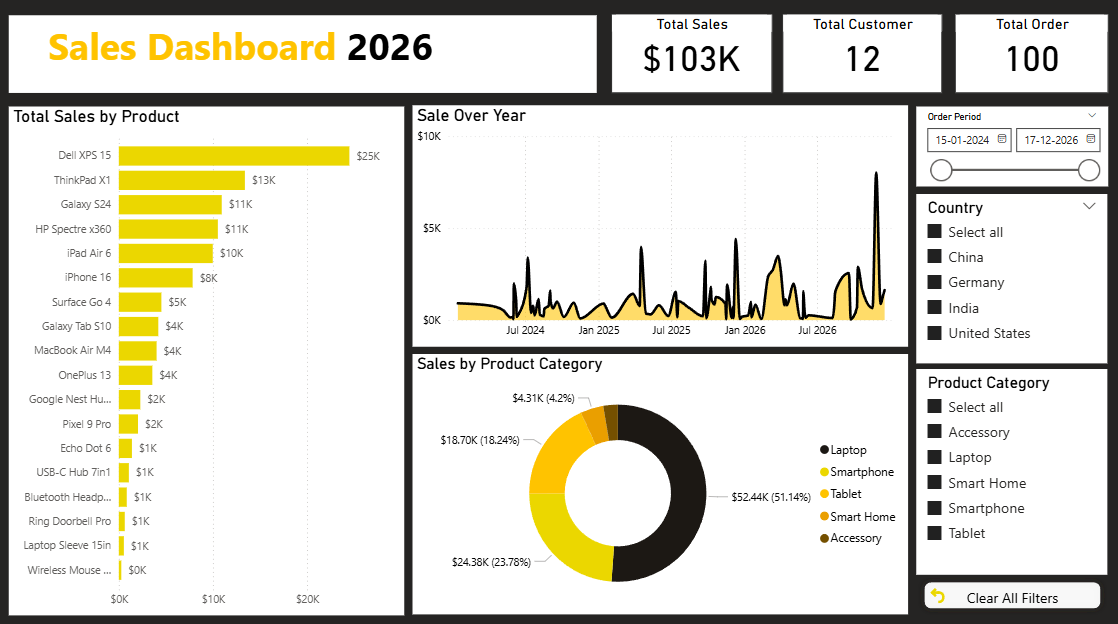

This screenshot's page, from the dashboard's own definition file:
{"tool":"powerbi","page":{"name":"Page 1","canvas":[1280,720],"ordinal":0},"visuals":[{"type":"barChart","title":"Total Sales by Product","fields":{"Category":["orders.product_name"],"Y":["Sum(orders.sales)"]},"box":[9.7,122.4,452.2,581.6],"z":0},{"type":"donutChart","title":"Sales by Product Category","fields":{"Category":["orders.product_category"],"Y":["Sum(orders.sales)"]},"box":[472,406.2,566.7,297.8],"z":1000},{"type":"advanceCardE03760C5AB684758B56AA29F9E6C257B","title":"Total Order","fields":{"mainMeasure":["CountNonNull(orders.order_id)"]},"box":[1090.8,16.7,175.3,90.4],"z":2000},{"type":"advanceCardE03760C5AB684758B56AA29F9E6C257B","title":"Total Customer","fields":{"mainMeasure":["CountNonNull(customers.customer_id)"]},"box":[894.6,16.7,182.3,90.4],"z":3000},{"type":"advanceCardE03760C5AB684758B56AA29F9E6C257B","title":"Total Sales","fields":{"mainMeasure":["Sum(orders.sales)"]},"box":[698.4,16.7,183.7,90.4],"z":4000},{"type":"areaChart","title":"Sale Over Year ","fields":{"Category":["orders.order_date"],"Y":["Sum(orders.sales)"]},"box":[472,120.8,566.7,275.8],"z":5000},{"type":"textbox","box":[9.7,18.1,672,89],"z":6000},{"type":"slicer","fields":{"Values":["customers.country"]},"box":[1047.7,222.6,218.4,193.4],"z":7000},{"type":"slicer","fields":{"Values":["orders.product_category"]},"box":[1047.7,423,218.4,235.1],"z":7001},{"type":"slicer","fields":{"Values":["orders.order_date"]},"box":[1047.7,122.4,218.4,90.4],"z":7003},{"type":"actionButton","box":[1049,658.1,217,45.9],"z":7004}]}

Visuals, with their boxes in screenshot pixels (x1, y1, x2, y2), scaled from the page's 1280x720 canvas onto the 1118x624 screenshot:
"Total Sales by Product" barChart: 8:106:403:610
"Sales by Product Category" donutChart: 412:352:907:610
"Total Order" advanceCardE03760C5AB684758B56AA29F9E6C257B: 953:14:1106:93
"Total Customer" advanceCardE03760C5AB684758B56AA29F9E6C257B: 781:14:941:93
"Total Sales" advanceCardE03760C5AB684758B56AA29F9E6C257B: 610:14:770:93
"Sale Over Year " areaChart: 412:105:907:344
textbox: 8:16:595:93
slicer - customers.country: 915:193:1106:361
slicer - orders.product_category: 915:367:1106:570
slicer - orders.order_date: 915:106:1106:184
actionButton: 916:570:1106:610
